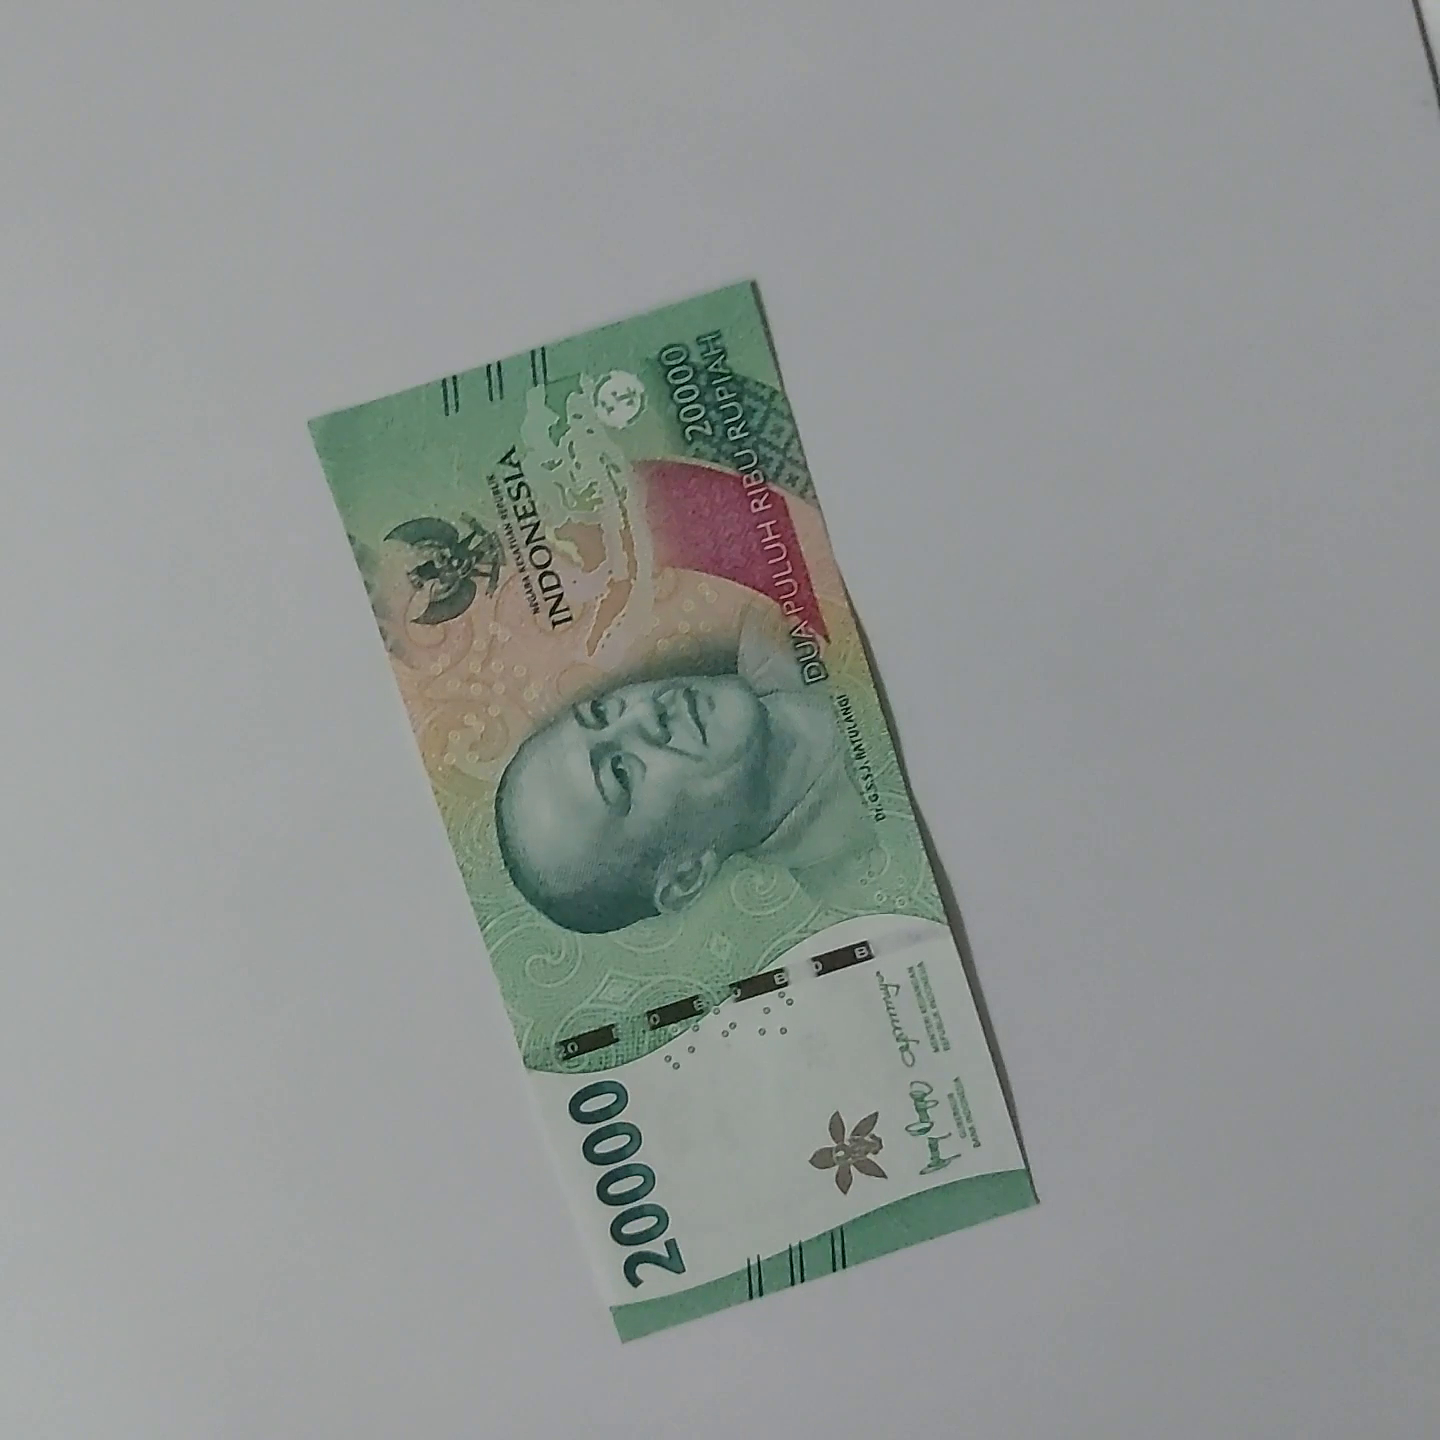20k: (277, 418, 787, 1415)
